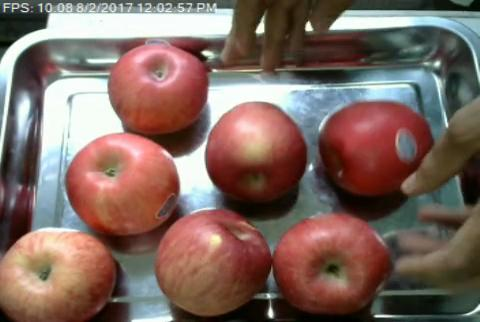apple: (155, 208, 270, 315), (272, 215, 390, 312), (66, 133, 178, 234), (0, 229, 114, 320), (206, 101, 307, 201), (320, 101, 423, 194), (107, 44, 208, 133)
